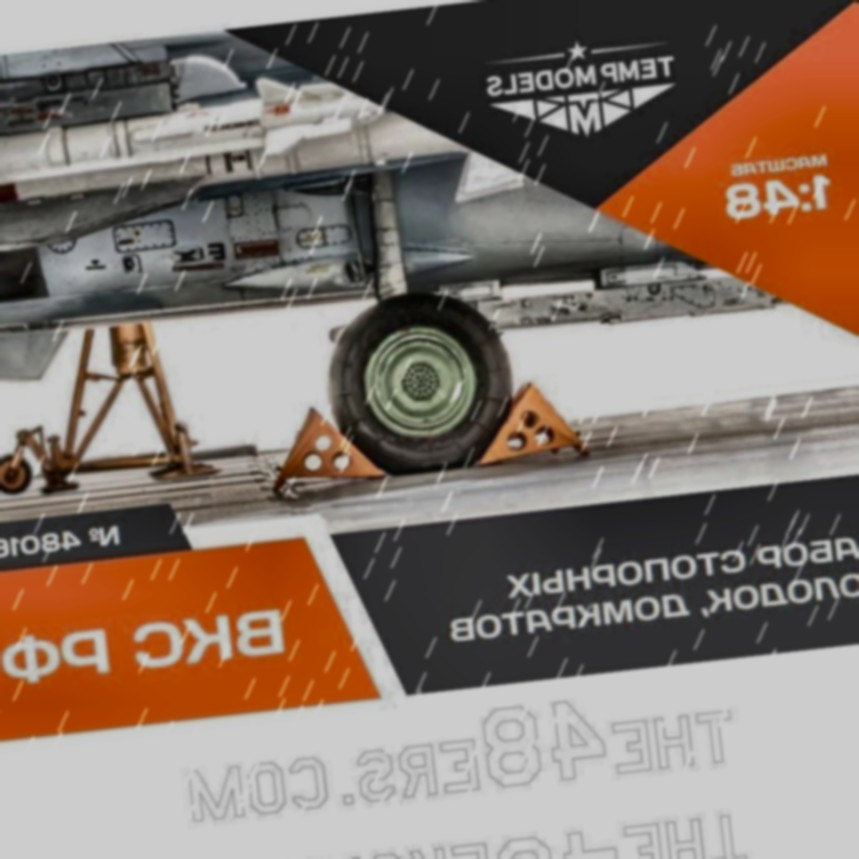chock: (265, 401, 389, 493), (470, 377, 591, 468)
wheel: (318, 278, 523, 477), (0, 449, 37, 495)
